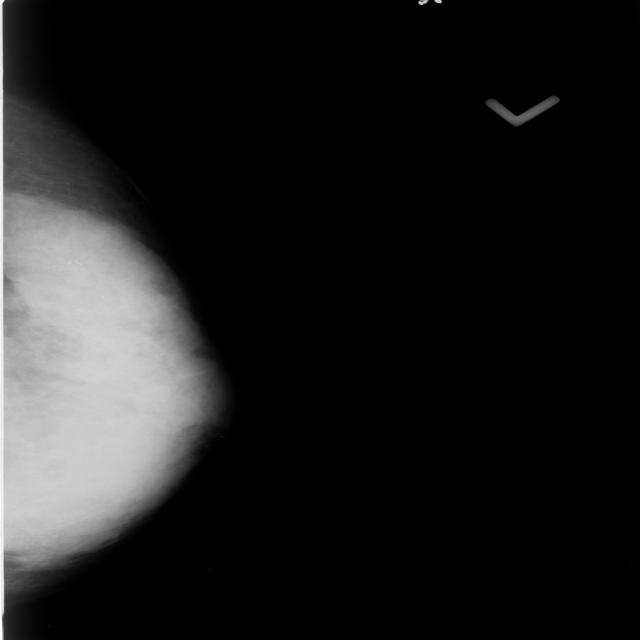cancer: (0, 212, 229, 578)
